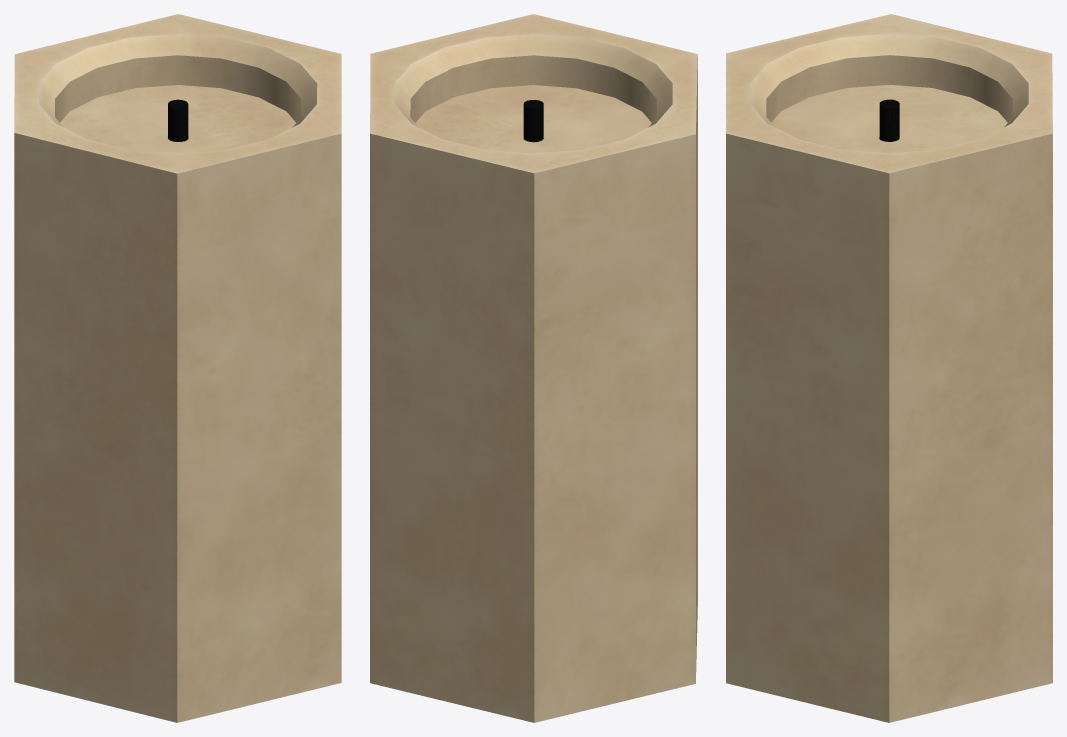
Rendered from T_Candle.fbx.
3 renders of one model, left to right at view 1: azimuth 30°, elevation 25°; view 2: azimuth 150°, elevation 25°; view 3: azimuth 270°, elevation 25°, orthographic.
Parts seen in each view (by area): view 1: Candle; view 2: Candle; view 3: Candle.
Boxes of the visible parts, x1=… form: Candle: x1=14, y1=14, x2=341, y2=722; Candle: x1=370, y1=14, x2=697, y2=722; Candle: x1=726, y1=14, x2=1052, y2=722.
Bounding box in the file's own units: 3.11 × 5 × 2.69.
